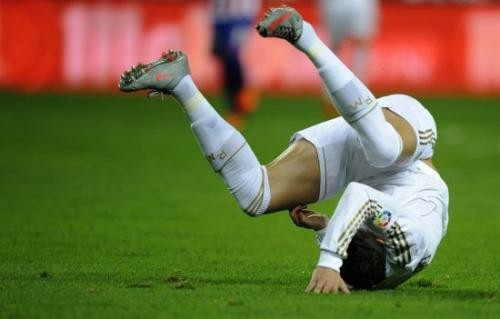falling: (125, 9, 468, 302)
